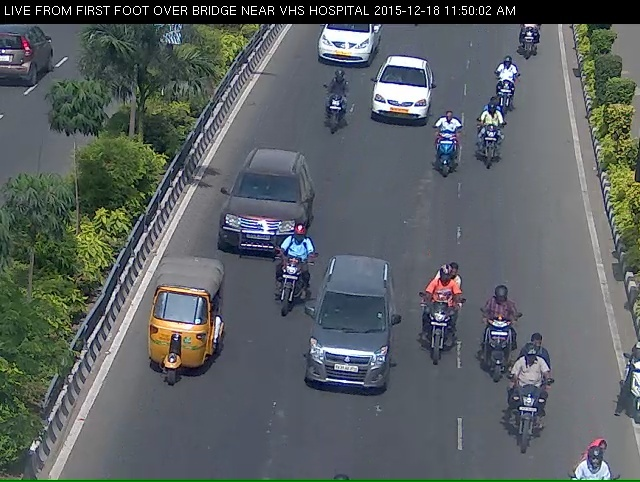Auto: (135, 281, 204, 409)
Car: (308, 278, 384, 418), (217, 162, 300, 269), (372, 64, 429, 131), (308, 21, 370, 73)
Person: (421, 283, 461, 380), (264, 250, 304, 337), (480, 298, 516, 394), (516, 368, 547, 471), (474, 110, 503, 190), (320, 81, 348, 142), (434, 123, 458, 194), (492, 67, 518, 118), (517, 21, 543, 66)
